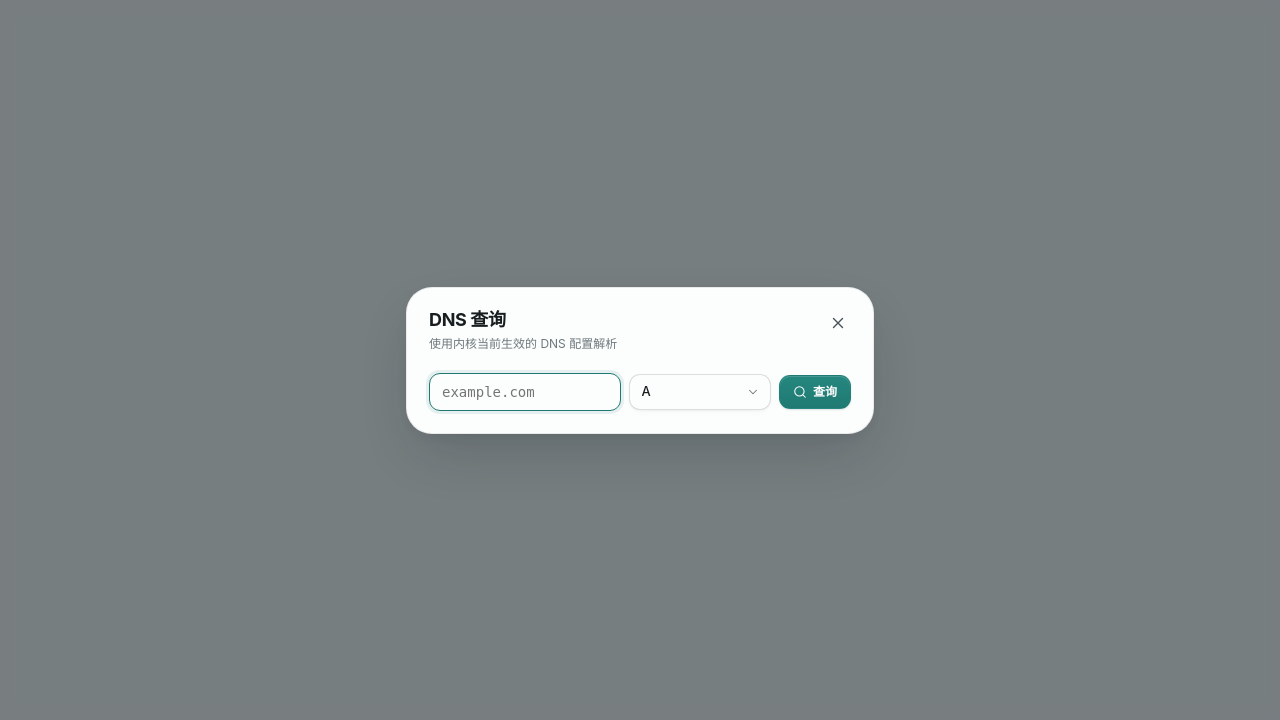
Test: DnsQueryDialog › shows the kernel reason and status code when no record comes back
This screenshot has width=1280, height=720.
Type "missing.example" into the field with test id "dns-query-name" at {"x": 525, "y": 392}, box x1=429 y1=372 x2=621 y2=410
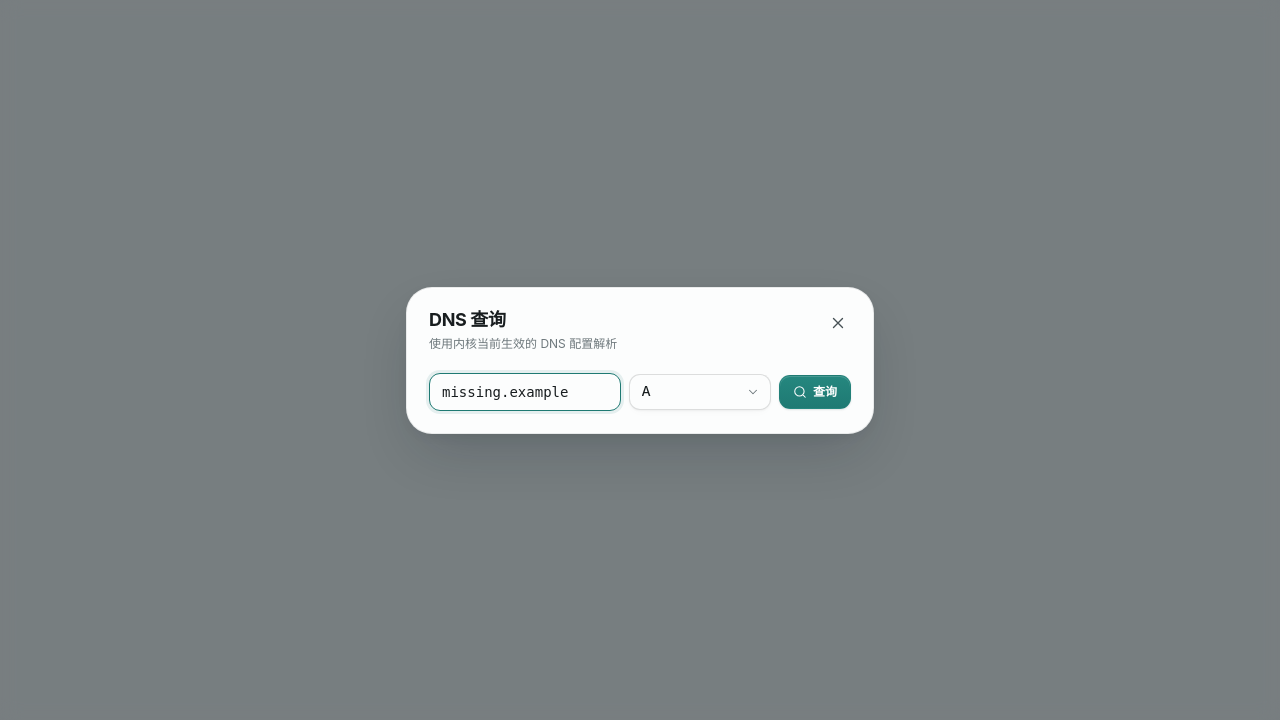
Submit the form with test id "dns-query-form", box x1=429 y1=372 x2=851 y2=410
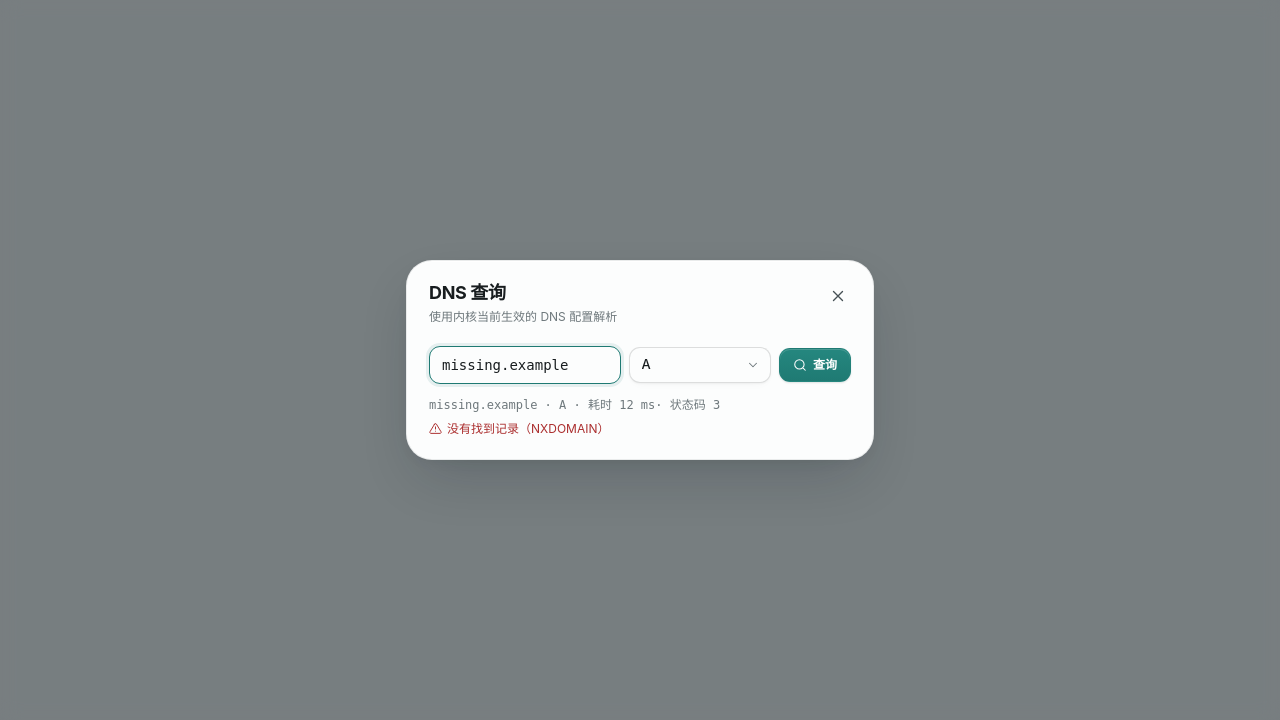
Result: the message with test id "dns-query-error" reads "没有找到记录（NXDOMAIN）" at x1=447 y1=421 x2=610 y2=436
Result: the text with test id "dns-query-meta" shows "状态码 3" at x1=655 y1=398 x2=720 y2=412
